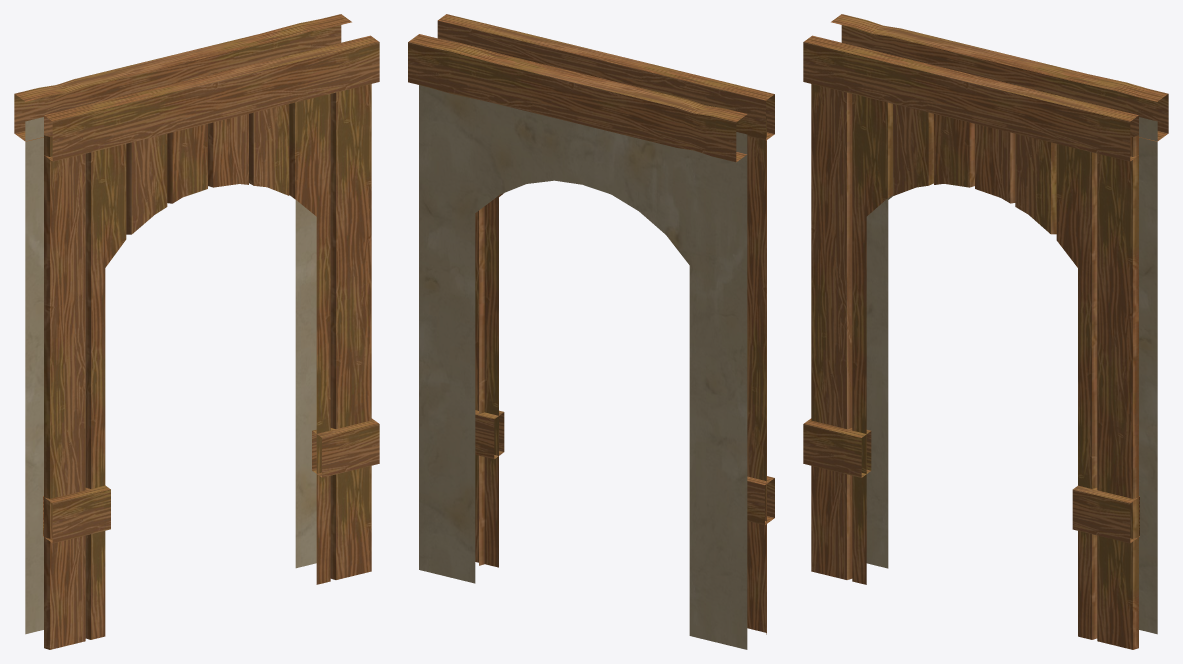
File: Wall_WoodWear_Door_Round.gltf
3 renders of one model, left to right at view 1: azimuth 30°, elevation 25°; view 2: azimuth 150°, elevation 25°; view 3: azimuth 330°, elevation 25°, orthographic.
Parts seen in each view (by area): view 1: Wall_WoodWear_Door_Round; view 2: Wall_WoodWear_Door_Round; view 3: Wall_WoodWear_Door_Round.
Boxes of the visible parts, bbox=[...] form: Wall_WoodWear_Door_Round: bbox=[14, 14, 379, 649]; Wall_WoodWear_Door_Round: bbox=[408, 14, 774, 649]; Wall_WoodWear_Door_Round: bbox=[803, 14, 1168, 649].
Size of the model in its own units: 2 by 3.12 by 0.4065.
3 materials, 3 textured.
